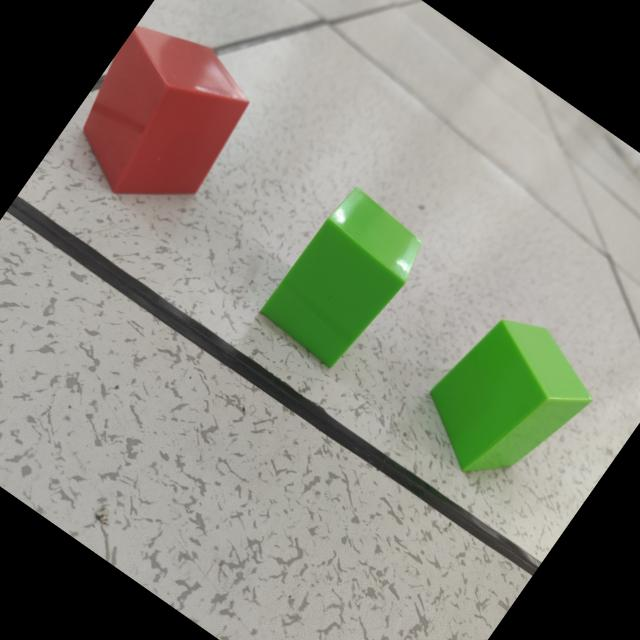green: (258, 189, 420, 370), (427, 319, 590, 475)
red: (81, 25, 248, 197)
